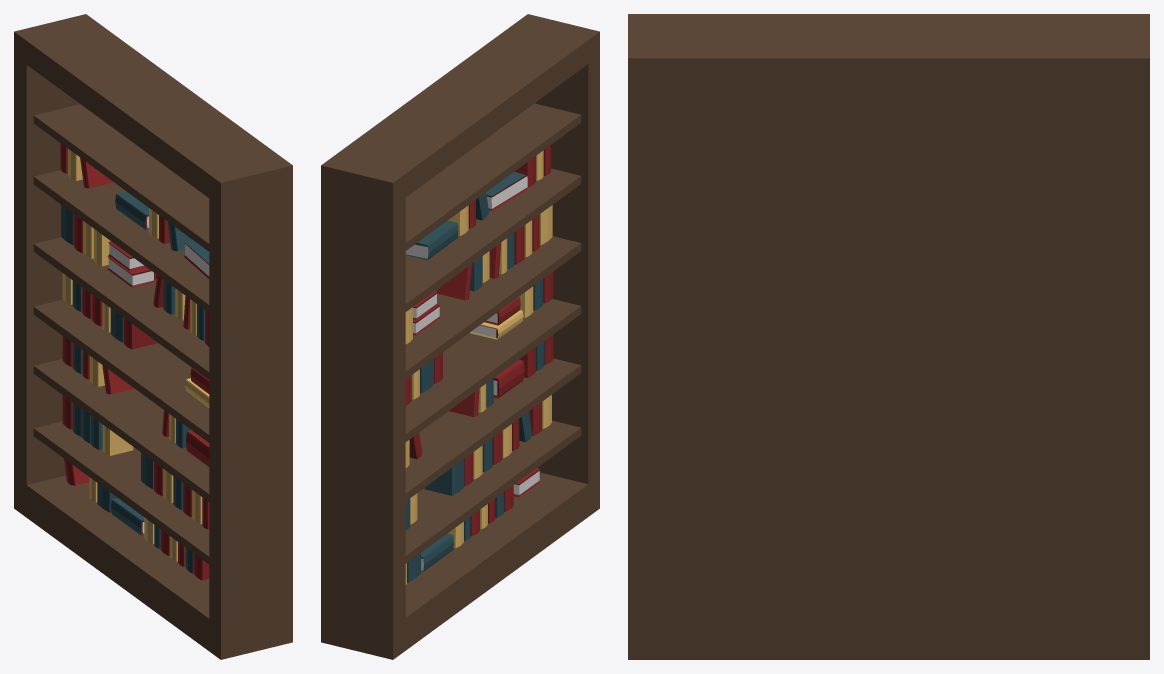
File: bookshelf.fbx
3 renders of one model, left to right at view 1: azimuth 30°, elevation 25°; view 2: azimuth 150°, elevation 25°; view 3: azimuth 270°, elevation 25°, orthographic. The views are drawn at different scales.
Visible parts, largest first — view 1: pCube8, Book55, Book41, Book29, Book59, Book04, Book15, Book/2, Book54, Book40, Book64, Book.8 (+1 smaller); view 2: pCube8, Book55, Book59, Book16, Book/2, Book47, Book09, Book29, Book/5, Book51, Book63, Book10 (+1 smaller); view 3: pCube8.
Part boxes in pixels (x1,y1,x2,y2): pCube8: (14, 14, 292, 659); Book55: (115, 191, 148, 230); Book41: (107, 255, 156, 287); Book29: (111, 498, 144, 535); Book59: (184, 240, 209, 278); Book04: (123, 318, 157, 349); Book15: (102, 424, 133, 455); Book/2: (186, 430, 209, 466); Book54: (80, 157, 113, 188); Book40: (93, 229, 110, 266); Book64: (108, 241, 145, 270); Book.8: (102, 365, 134, 394); pCube8: (321, 14, 599, 659); Book55: (405, 220, 458, 260); Book59: (486, 171, 527, 211); Book16: (424, 459, 464, 495); Book/2: (493, 359, 524, 398); Book47: (437, 263, 472, 300); Book09: (470, 310, 523, 339); Book29: (421, 533, 453, 571); Book/5: (449, 388, 479, 416); Book51: (539, 205, 552, 244); Book63: (513, 468, 539, 497); Book10: (484, 297, 520, 325); pCube8: (628, 14, 1149, 659).
Size of the model in its own units: 106 by 673 by 529.
